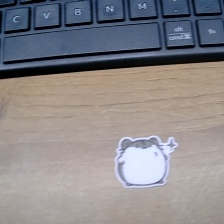mouse: (113, 134, 180, 190)
